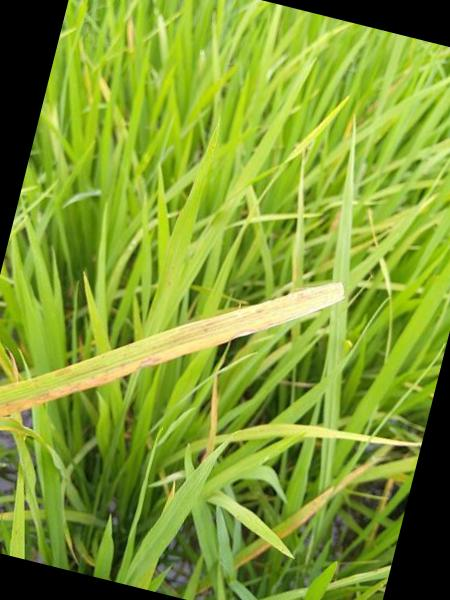Leaf Blight: (0, 282, 344, 419), (272, 457, 378, 535), (195, 375, 221, 466), (232, 538, 271, 569)
